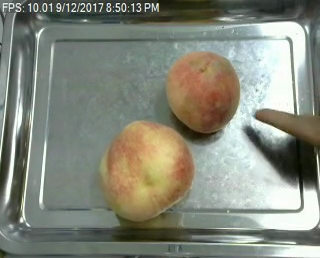Peach: (101, 120, 195, 221), (165, 50, 241, 133)
